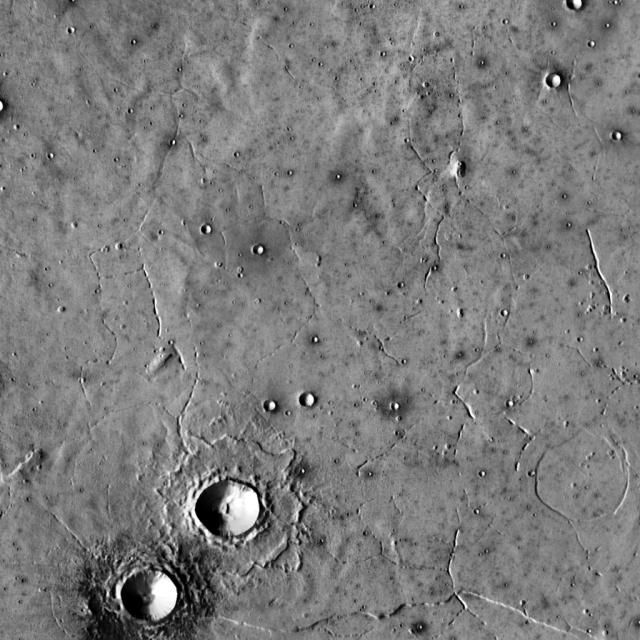crater: (543, 432, 638, 520), (201, 477, 268, 539), (127, 568, 183, 620), (300, 393, 316, 407), (262, 398, 276, 411), (548, 74, 562, 86), (0, 98, 9, 112), (565, 0, 579, 9), (252, 244, 263, 254), (614, 131, 624, 140), (202, 224, 212, 232), (501, 310, 508, 318), (396, 402, 404, 409), (504, 402, 512, 408), (586, 42, 594, 48), (66, 27, 73, 32)
